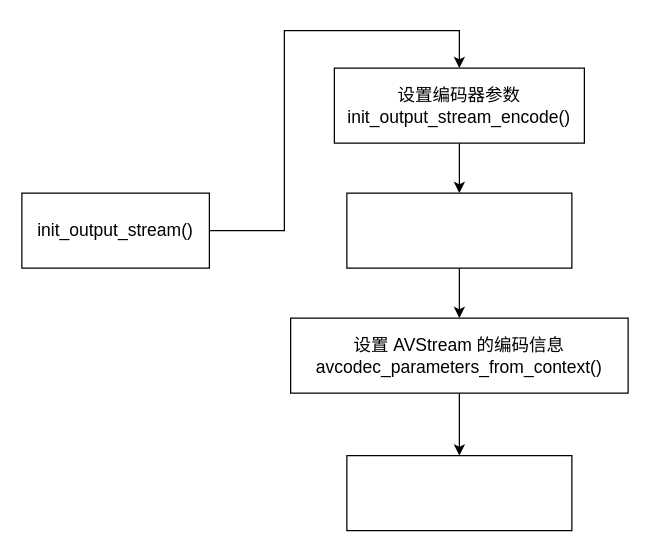
Some shapes in this 650 by 553 pixel diagram are drawn without their labels. Each missing label, with the box of its shape:
打开编码器 avcodec_open2(): (346, 192, 572, 268)
输出流初始化完成 ost->initialized = 1: (346, 454, 572, 531)
